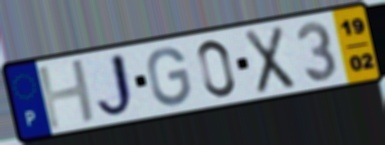0: (196, 38, 237, 99)
3: (295, 18, 340, 85)
G: (145, 45, 194, 108)
H: (34, 56, 100, 133)
J: (94, 50, 140, 120)
X: (242, 23, 298, 96)
